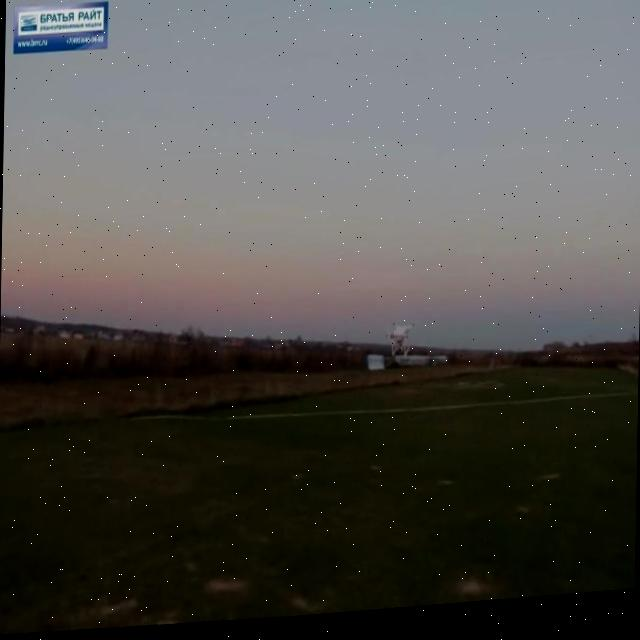drone: (384, 325, 414, 363)
